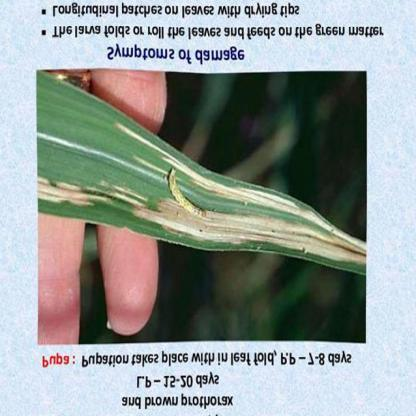leaf-folder: (165, 162, 216, 225)
